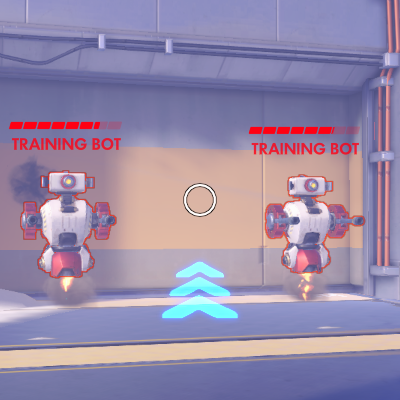hpbar: (8, 121, 122, 130), (248, 126, 360, 135)
